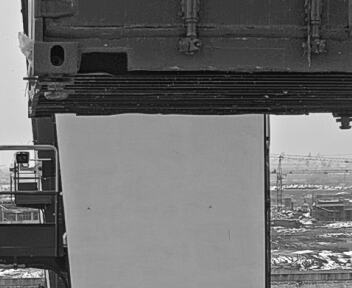twist_lock_1: (32, 69, 80, 108)
